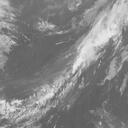cyclone: (44, 43, 107, 104)
